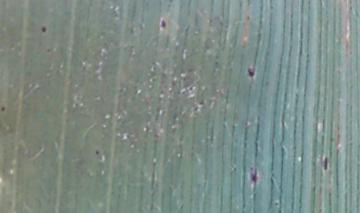tarspot: (248, 166, 259, 182), (246, 65, 257, 78), (322, 155, 330, 171), (39, 24, 49, 35), (159, 18, 167, 29), (44, 46, 56, 53), (197, 97, 205, 106), (245, 14, 251, 23), (94, 149, 101, 156), (273, 200, 280, 207), (193, 105, 199, 113), (188, 85, 195, 91), (180, 89, 186, 96), (1, 105, 6, 113), (213, 59, 218, 65)
